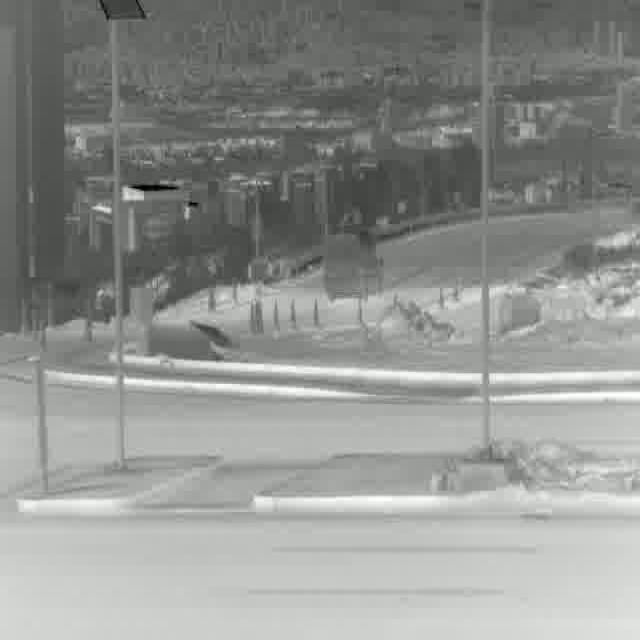Car: (324, 228, 382, 301)
